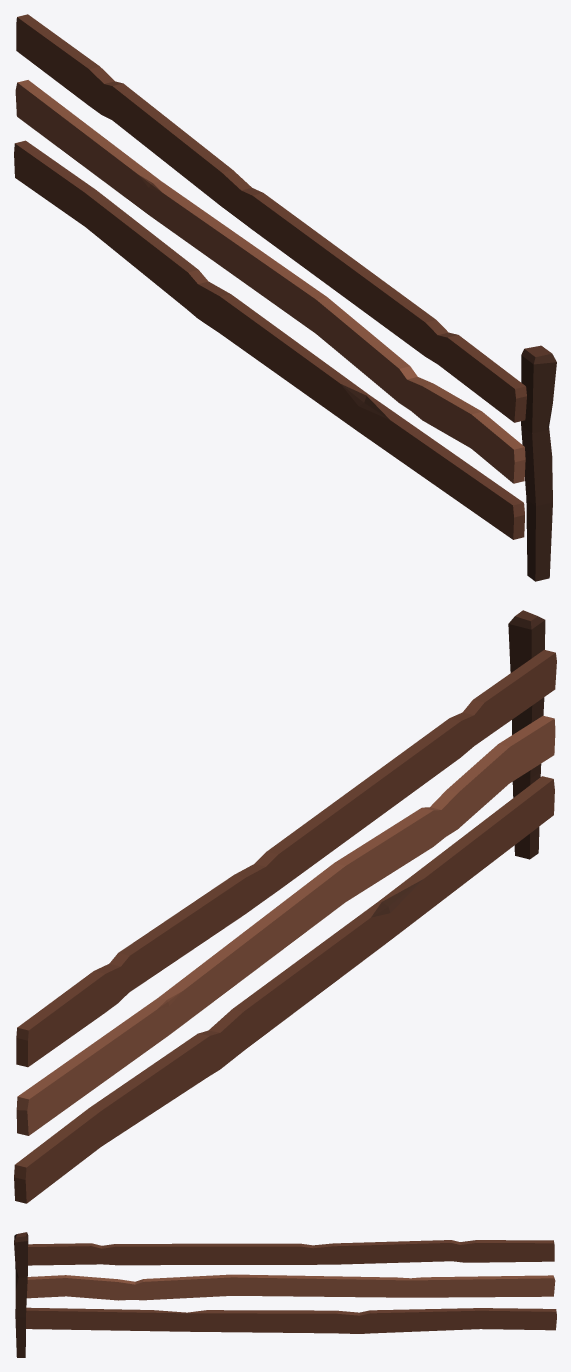
The model's file is FenceWoodLarge_01.glb.
3 views of the same model, one above another, from view 1: azimuth 30°, elevation 25°; view 2: azimuth 150°, elevation 25°; view 3: azimuth 270°, elevation 25° (orthographic). The views are drawn at different scales.
Parts seen in each view (by area): view 1: FenceWoodLarge_01; view 2: FenceWoodLarge_01; view 3: FenceWoodLarge_01.
Boxes of the visible parts, bbox=[...] form: FenceWoodLarge_01: bbox=[14, 14, 556, 581]; FenceWoodLarge_01: bbox=[14, 610, 556, 1203]; FenceWoodLarge_01: bbox=[14, 1232, 556, 1357].
Size of what is drawn, in the model's own units: 0.2177 by 1.25 by 5.07.
Materials: 1 (1 with a texture image).
